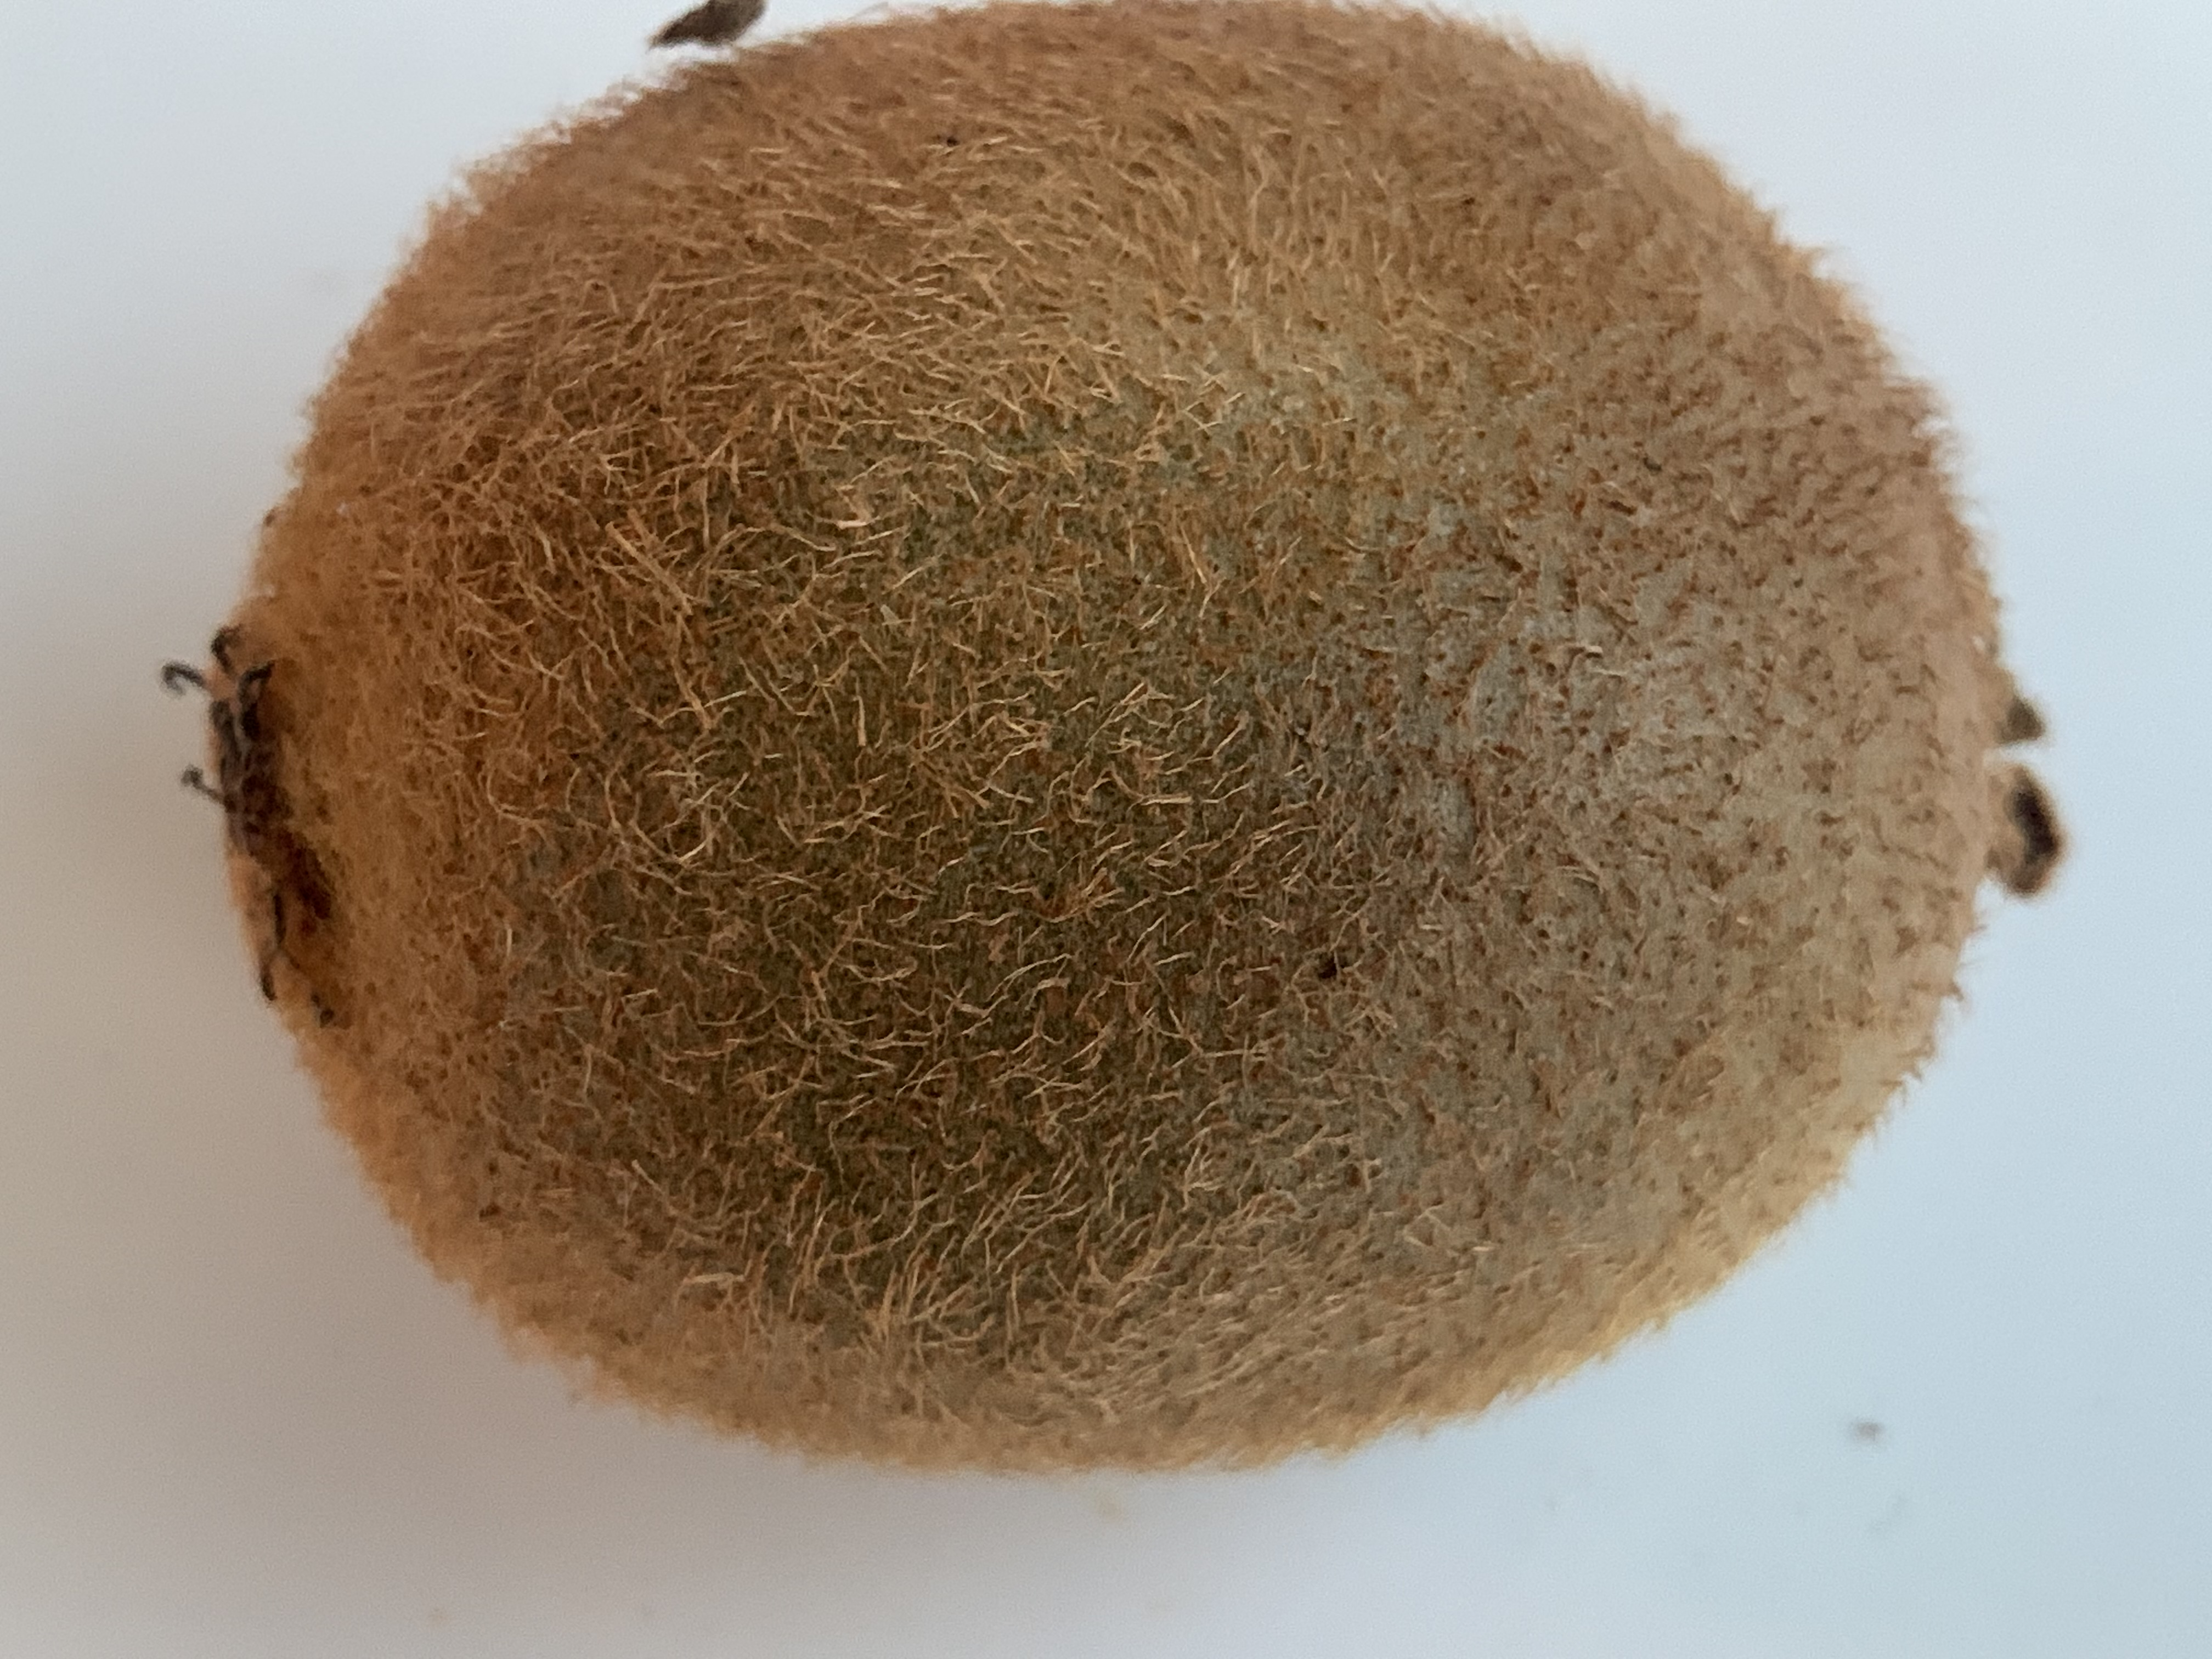kiwi: (207, 16, 2078, 1476)
